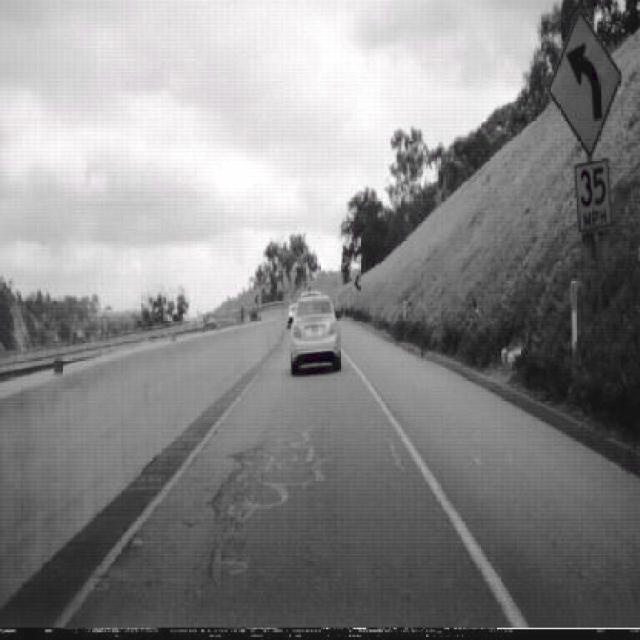curveLeft: (548, 8, 623, 158)
